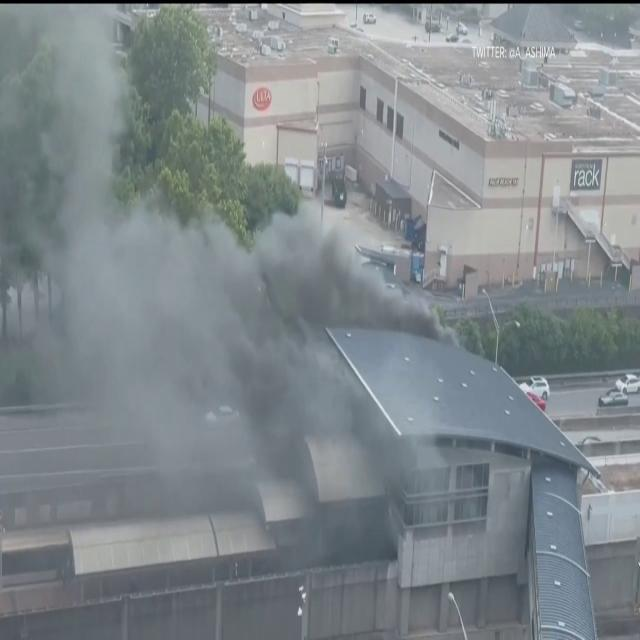Smoke: (0, 0, 399, 557)
